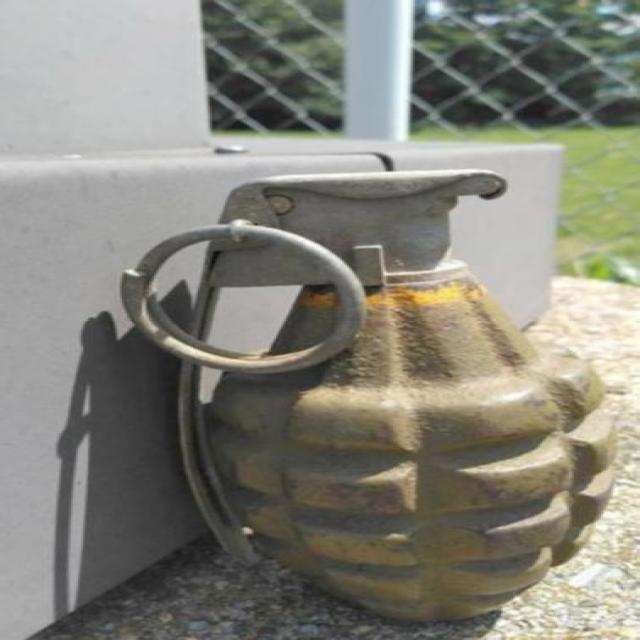grenade: (122, 172, 615, 620)
